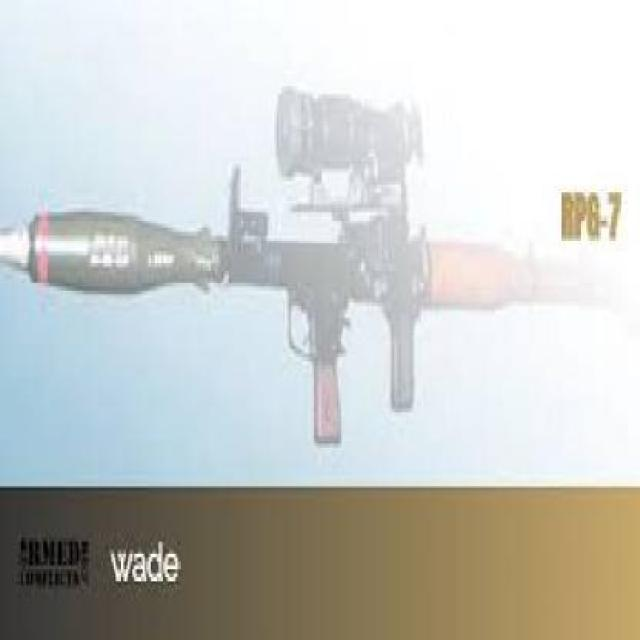weapon: (14, 54, 614, 440)
